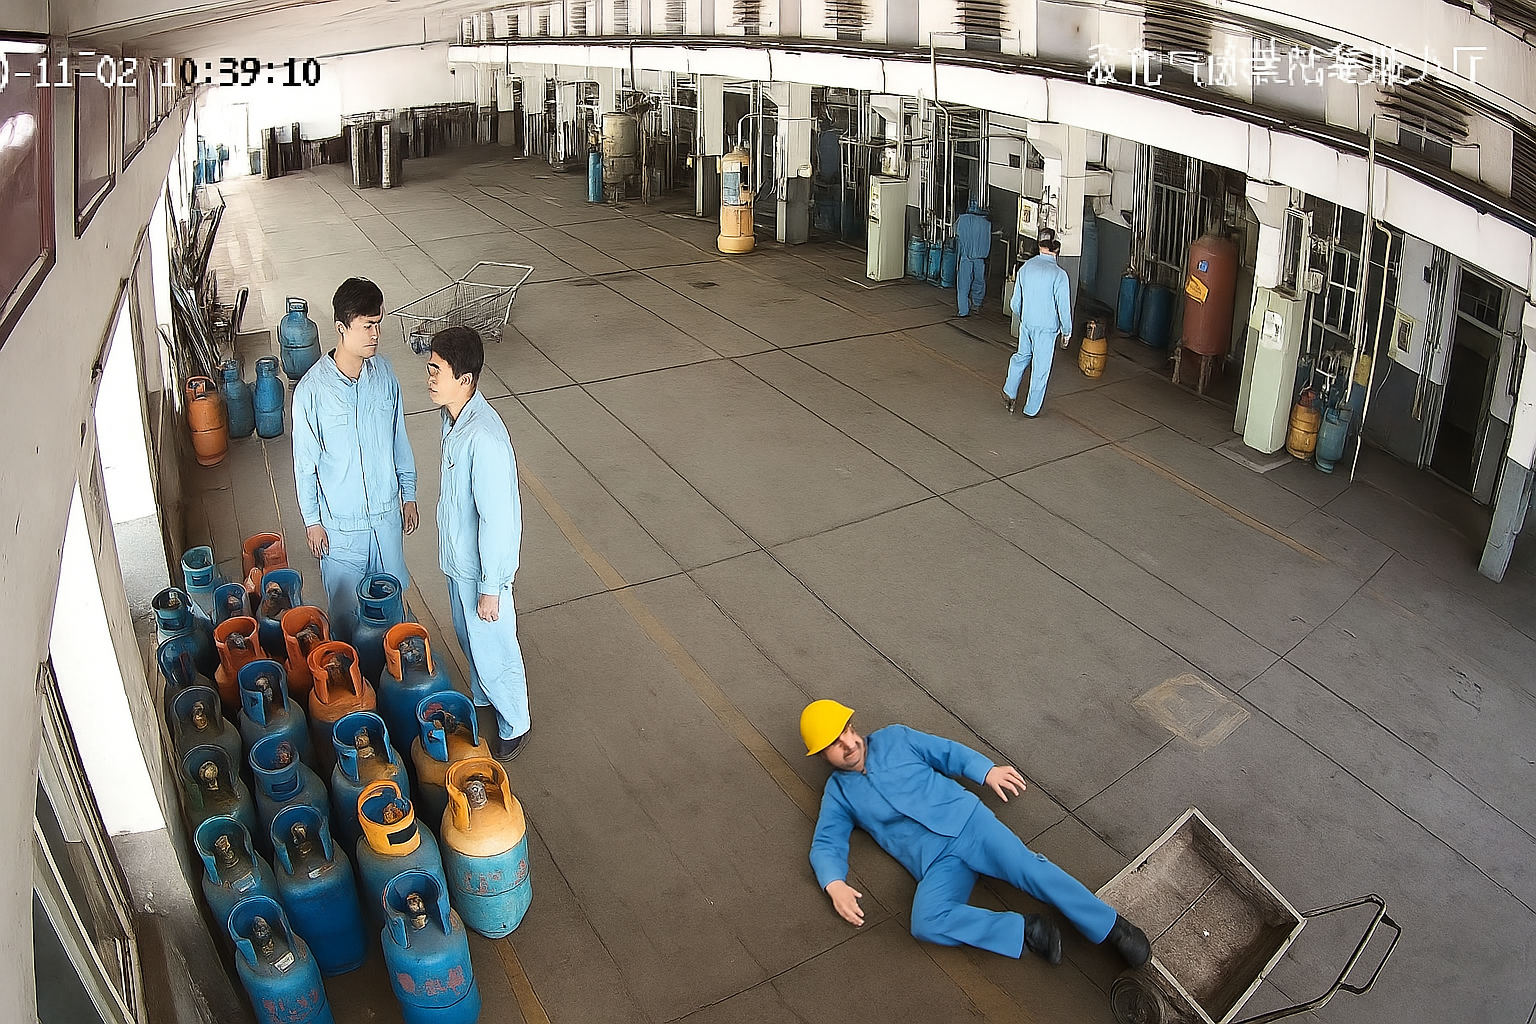trip: (730, 649, 1182, 990)
